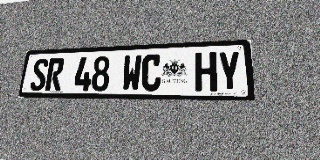4: (73, 57, 94, 91)
8: (91, 56, 111, 91)
C: (141, 54, 162, 91)
H: (195, 52, 217, 91)
R: (45, 58, 65, 91)
S: (29, 58, 49, 91)
W: (121, 55, 142, 91)
Y: (217, 51, 242, 92)
